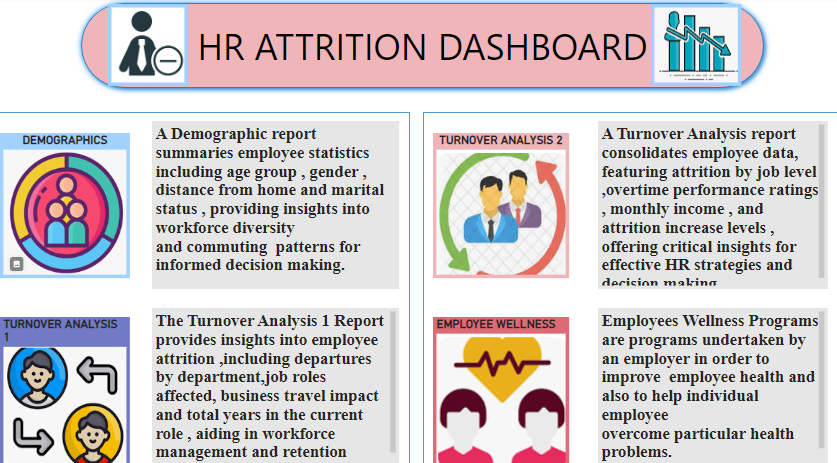

The page's visual inventory and layout, read from the dashboard file:
{"tool":"powerbi","page":{"name":"Page 1","canvas":[1280,720],"ordinal":0},"visuals":[{"type":"shape","box":[138.2,0,1000.8,139.7],"z":0},{"type":"image","box":[159.8,178.6,113.8,118.1],"z":1000},{"type":"image","box":[967.7,10.1,129.6,118.1],"z":2000},{"type":"shape","box":[18.7,165.6,601.9,538.6],"z":3000},{"type":"shape","box":[639.4,165.6,617.8,538.6],"z":4000},{"type":"image","title":"DEMOGRAPHICS","box":[30.2,195.8,187.2,208.8],"z":5000},{"type":"textbox","box":[249.1,178.6,355.7,241.9],"z":6000},{"type":"image","title":" TURNOVER ANALYSIS 1","box":[30.2,460.8,187.2,218.9],"z":7000},{"type":"textbox","box":[249.1,447.8,355.7,231.8],"z":8000},{"type":"image","title":"TURNOVER ANALYSIS 2","box":[653.8,195.8,195.8,208.8],"z":9000},{"type":"image","box":[185.8,10.1,115.2,118.1],"z":10000},{"type":"textbox","box":[891.4,178.6,331.2,241.9],"z":11000},{"type":"image","title":"EMPLOYEE WELLNESS","box":[653.8,460.8,195.8,218.9],"z":12000},{"type":"textbox","box":[891.4,447.8,331.2,231.8],"z":13000}]}

Visuals, with their boxes in screenshot pixels (x1, y1, x2, y2), scaled from the page's 1280x720 canvas onto the 837x463 screenshot:
shape: crop(90, 0, 745, 90)
image: crop(104, 115, 179, 191)
image: crop(633, 6, 718, 82)
shape: crop(12, 106, 406, 453)
shape: crop(418, 106, 822, 453)
"DEMOGRAPHICS" image: crop(20, 126, 142, 260)
textbox: crop(163, 115, 395, 270)
" TURNOVER ANALYSIS 1" image: crop(20, 296, 142, 437)
textbox: crop(163, 288, 395, 437)
"TURNOVER ANALYSIS 2" image: crop(428, 126, 556, 260)
image: crop(121, 6, 197, 82)
textbox: crop(583, 115, 799, 270)
"EMPLOYEE WELLNESS" image: crop(428, 296, 556, 437)
textbox: crop(583, 288, 799, 437)
